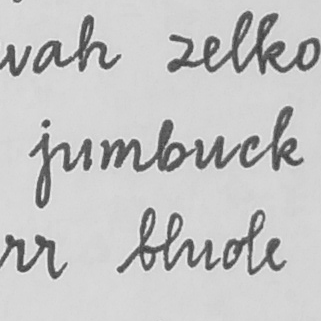b: (153, 116, 187, 173)
c: (237, 132, 262, 171)
j: (26, 130, 56, 211)
k: (269, 102, 305, 173)
m: (98, 136, 145, 173)
u: (192, 131, 229, 171), (59, 135, 94, 174)
